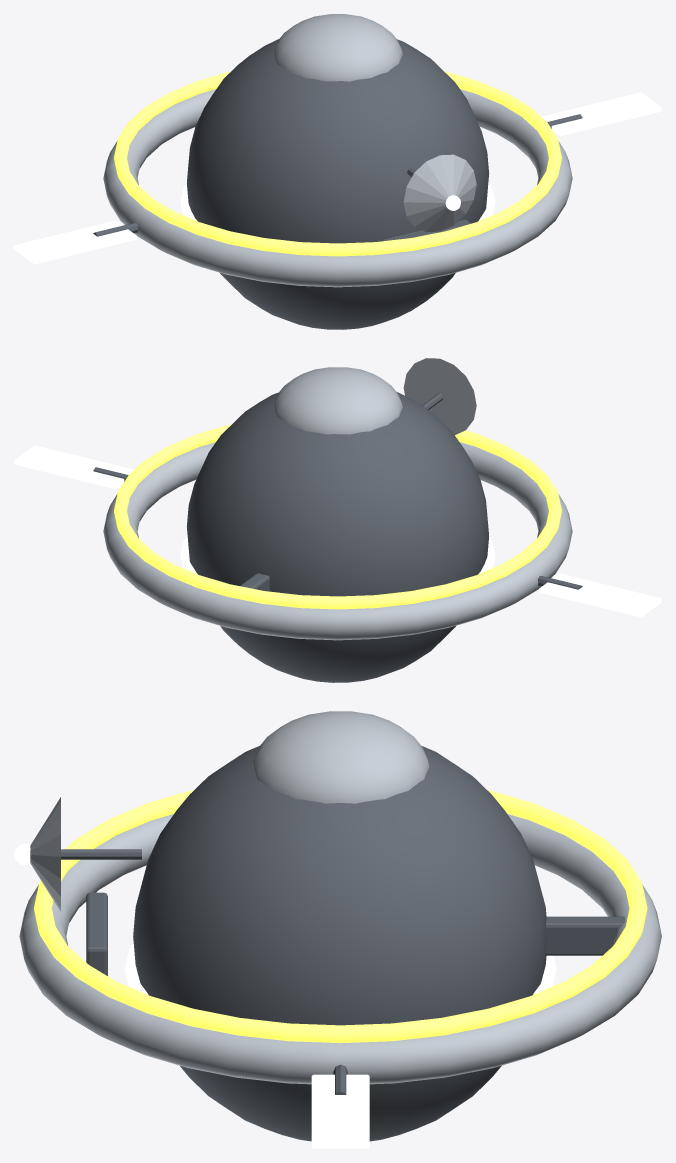
The model's file is station.glb.
The picture shows the model from 3 angles, top to bottom: view 1: azimuth 30°, elevation 25°; view 2: azimuth 150°, elevation 25°; view 3: azimuth 270°, elevation 25°; orthographic projection. The views are drawn at different scales.
Visible parts, largest first — view 1: core, ring_hull, ring_glow, cap, dish, panel_1, panel_-1, windows; view 2: core, ring_hull, ring_glow, cap, dish, panel_1, panel_-1, windows; view 3: core, ring_hull, ring_glow, cap, panel_-1, pyl_1, dish, pyl_0, windows, boom, pyl_2.
Part boxes in pixels (<box>): core: <box>187,39,489,329</box>; ring_hull: <box>103,89,572,287</box>; ring_glow: <box>114,71,561,256</box>; cap: <box>273,14,402,81</box>; dish: <box>403,154,476,232</box>; panel_1: <box>14,220,136,264</box>; panel_-1: <box>541,92,661,136</box>; windows: <box>180,182,495,221</box>; core: <box>186,392,488,682</box>; ring_hull: <box>103,442,572,640</box>; ring_glow: <box>114,424,561,609</box>; cap: <box>273,367,402,434</box>; dish: <box>403,358,476,434</box>; panel_1: <box>539,573,661,617</box>; panel_-1: <box>14,445,134,489</box>; windows: <box>180,535,495,574</box>; core: <box>133,746,546,1141</box>; ring_hull: <box>19,814,661,1084</box>; ring_glow: <box>34,790,647,1043</box>; cap: <box>252,711,429,803</box>; panel_-1: <box>311,1074,369,1148</box>; pyl_1: <box>546,917,625,955</box>; dish: <box>30,797,60,911</box>; pyl_0: <box>86,893,107,975</box>; windows: <box>125,944,556,994</box>; boom: <box>61,849,141,859</box>; pyl_2: <box>86,892,107,949</box>.
Size of the model in its own units: 0.55 by 0.245 by 0.359.
